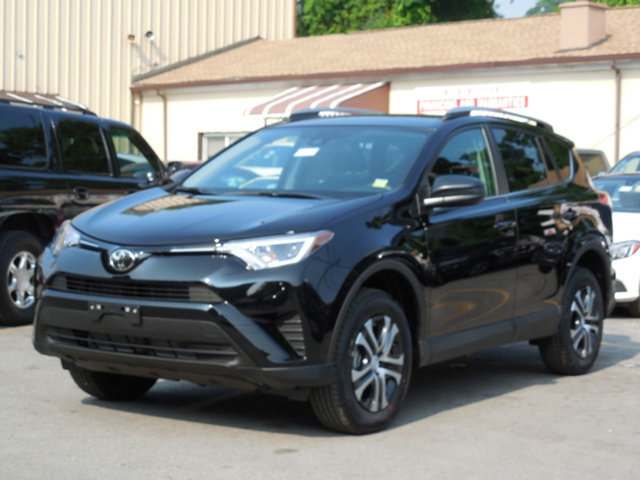Toyota RAV-4: (28, 112, 618, 438)
